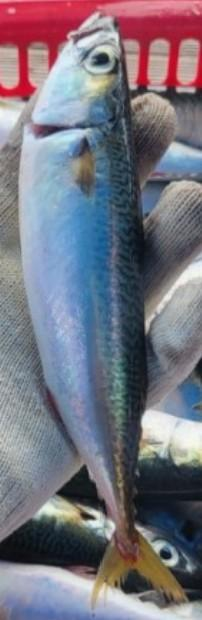fish: (20, 13, 185, 601)
